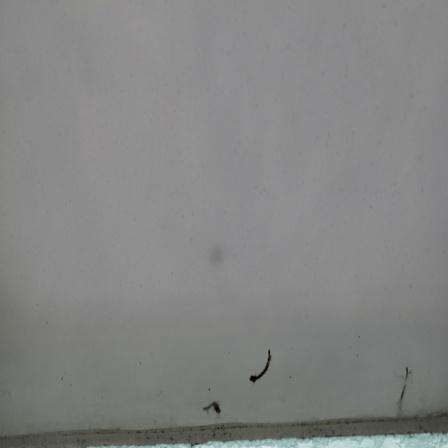Jentik-Nyamuk: (247, 346, 274, 384), (201, 397, 223, 417)
